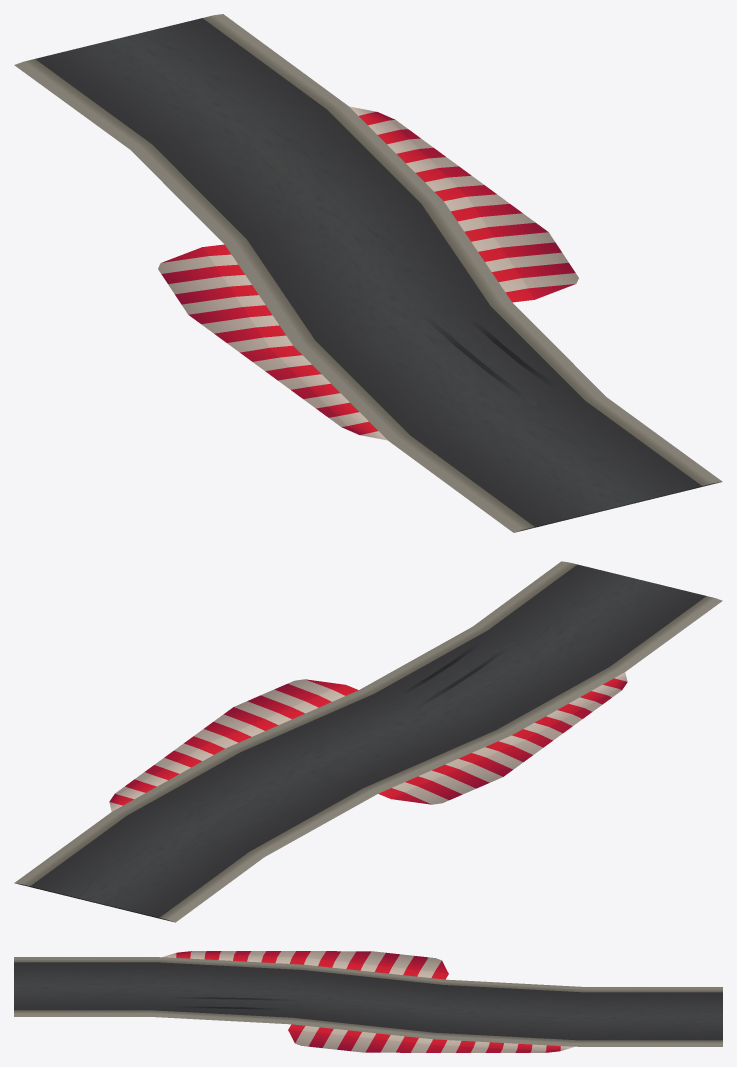
The model's file is Serpentine_1A_Long.fbx.
3 views of the same model, one above another, from view 1: azimuth 30°, elevation 25°; view 2: azimuth 150°, elevation 25°; view 3: azimuth 270°, elevation 25° (orthographic). The views are drawn at different scales.
Visible parts, largest first — view 1: Serpentine_1A_Long, Serpentine_1A_Long_Skidmarks; view 2: Serpentine_1A_Long, Serpentine_1A_Long_Skidmarks; view 3: Serpentine_1A_Long, Serpentine_1A_Long_Skidmarks.
Part boxes in pixels (x1,y1,x2,y2): Serpentine_1A_Long: [14, 14, 722, 532]; Serpentine_1A_Long_Skidmarks: [420, 313, 560, 405]; Serpentine_1A_Long: [14, 561, 722, 922]; Serpentine_1A_Long_Skidmarks: [398, 642, 515, 709]; Serpentine_1A_Long: [14, 951, 722, 1052]; Serpentine_1A_Long_Skidmarks: [160, 997, 302, 1010].
Bounding box in the file's own units: 3399 × 11.52 × 10000.
